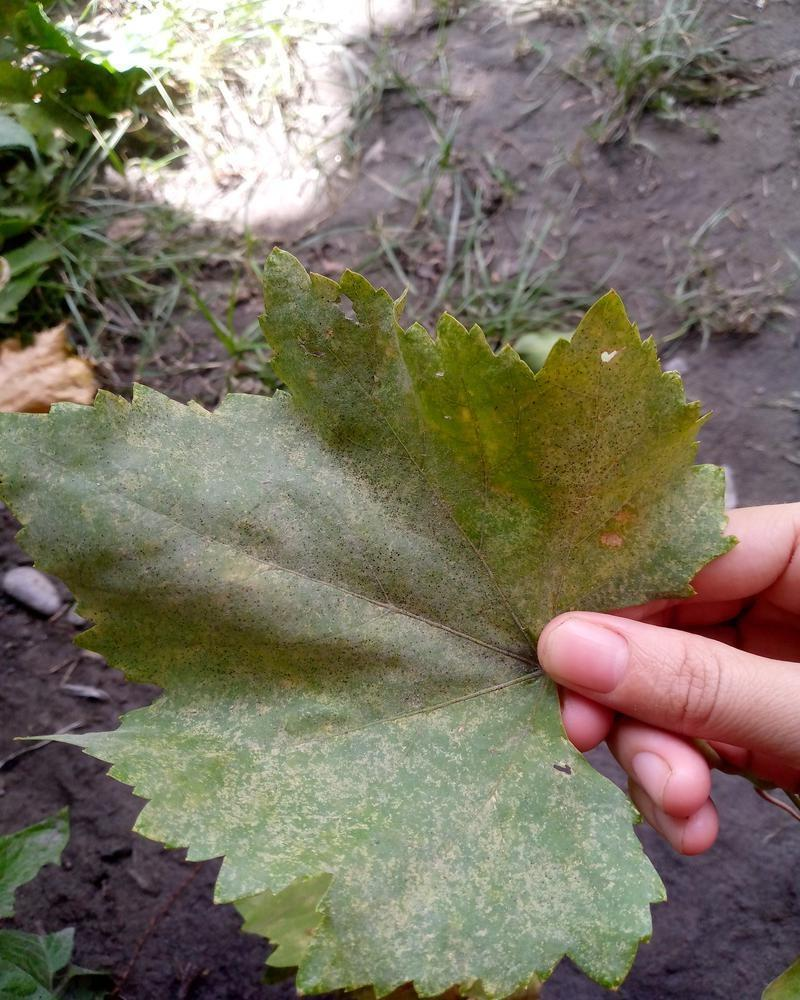Powdery-Mildew: (96, 387, 422, 578), (157, 693, 359, 852), (341, 605, 502, 776), (536, 293, 673, 492), (514, 797, 657, 940), (597, 470, 731, 568), (352, 837, 462, 952), (447, 382, 515, 481), (220, 512, 304, 583), (536, 750, 583, 797)
